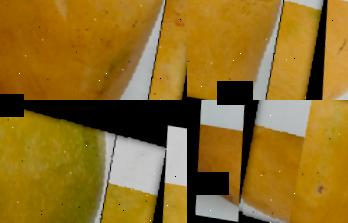PartiallyRipe: (0, 100, 172, 223)
Ripe: (0, 0, 187, 100), (187, 0, 334, 100), (234, 100, 348, 223)
